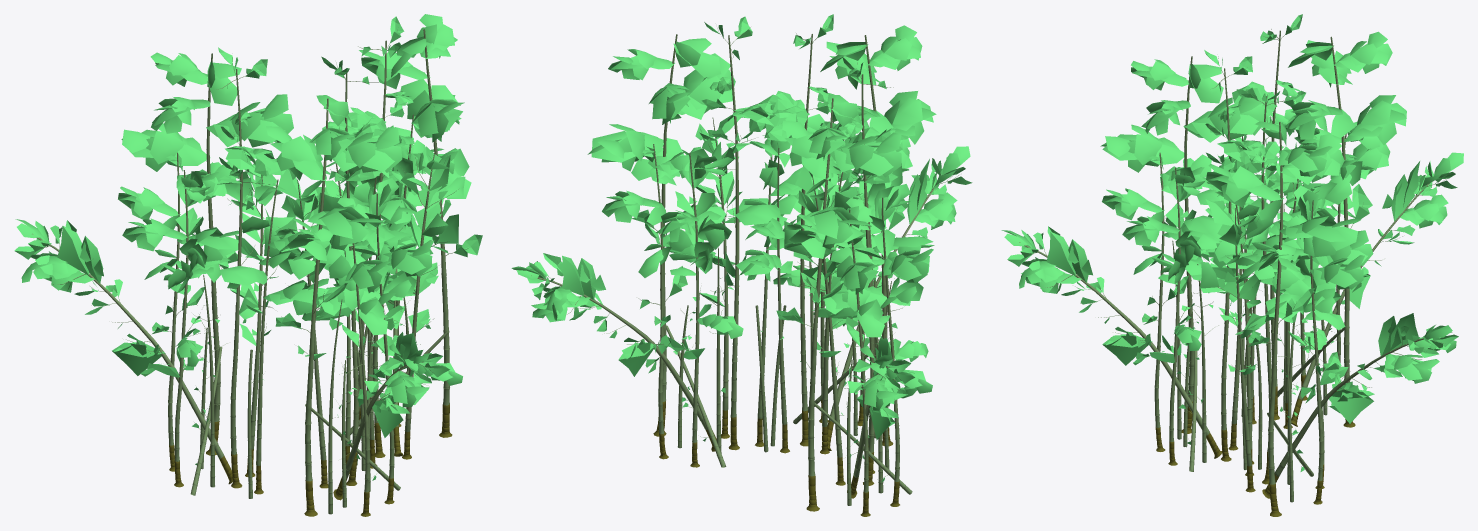
File: bambooWallCluster.fbx
The picture shows the model from 3 angles, left to right: view 1: azimuth 30°, elevation 25°; view 2: azimuth 150°, elevation 25°; view 3: azimuth 270°, elevation 25°; orthographic projection. The views are drawn at different scales.
Visible parts, largest first — view 1: Bamboo_Cluster1; view 2: Bamboo_Cluster1; view 3: Bamboo_Cluster1.
Boxes of the visible parts, box(x1,y1,x2,y2) form: Bamboo_Cluster1: box(14, 14, 482, 516); Bamboo_Cluster1: box(511, 14, 972, 516); Bamboo_Cluster1: box(1001, 14, 1463, 516).
Bounding box in the file's own units: 3043 × 3080 × 3152.
